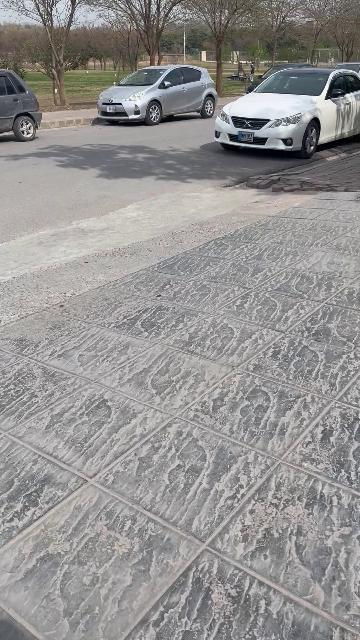plate: (237, 131, 254, 143)
